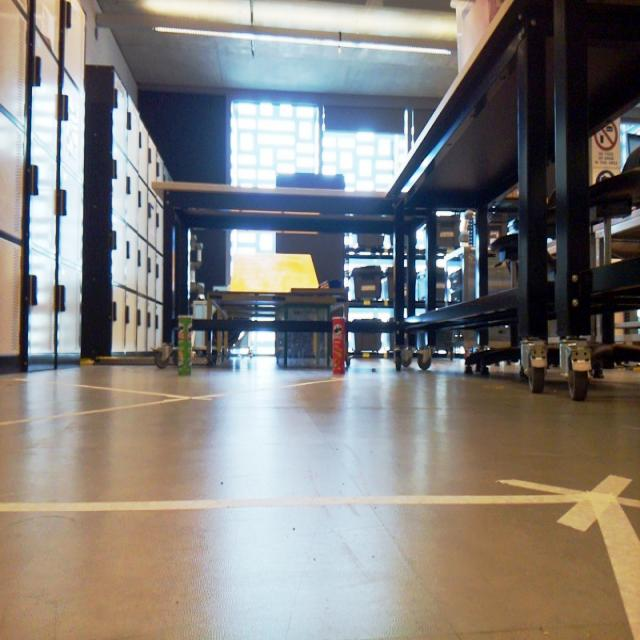greenpringles: (168, 306, 211, 392)
redpringles: (328, 312, 359, 394)
